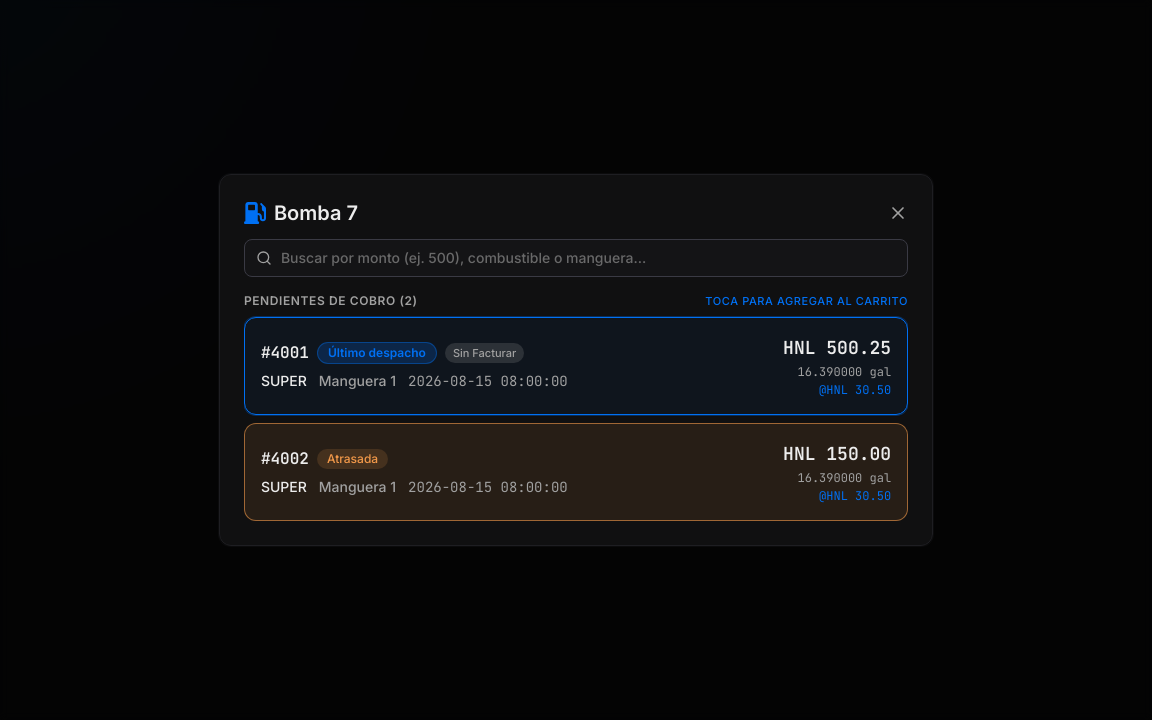
Test case: PumpModal › filtra transacciones por monto al escribir en el buscador
The width and height of the screenshot is (1152, 720).
Expected: the text "#4001" is shown, [261,341,309,365]
Expected: the text "#4002" is shown, [261,447,309,471]
Type "150" into the field with placeholder "Buscar por monto (ej. 500), combustible o manguera..." at [576, 258], box [244,239,908,277]
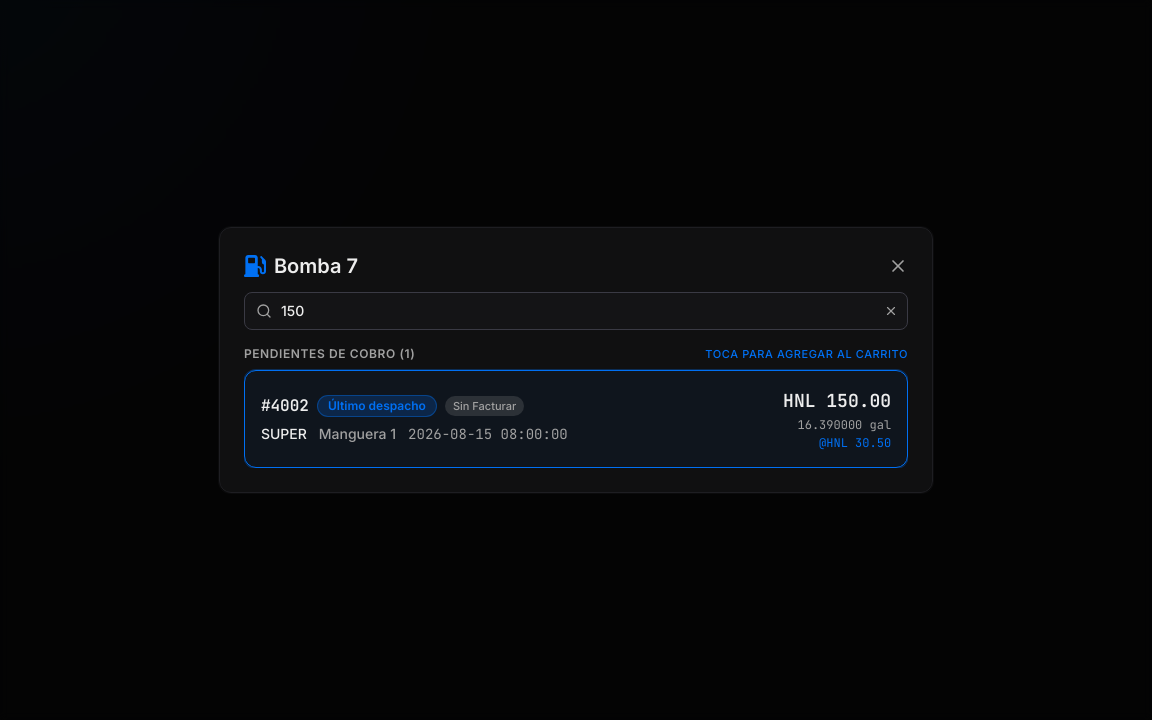
Expected: the text "#4002" is shown, [261,394,309,418]
Expected: the text "#4001" is gone
